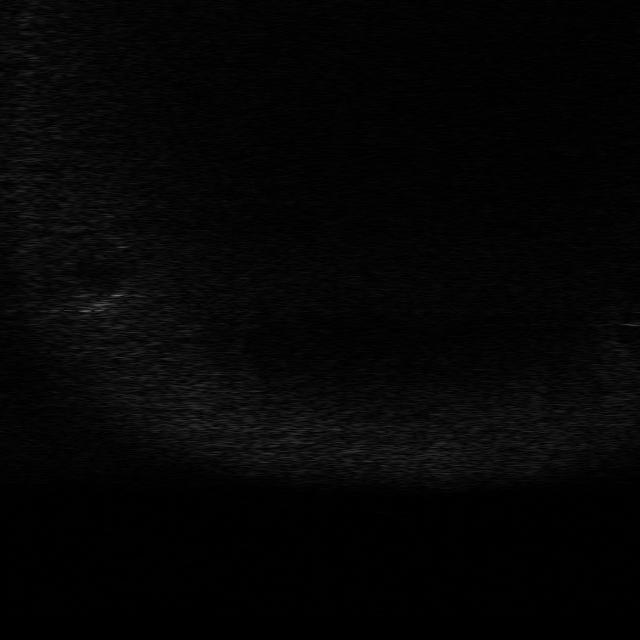plane: (61, 287, 129, 323)
